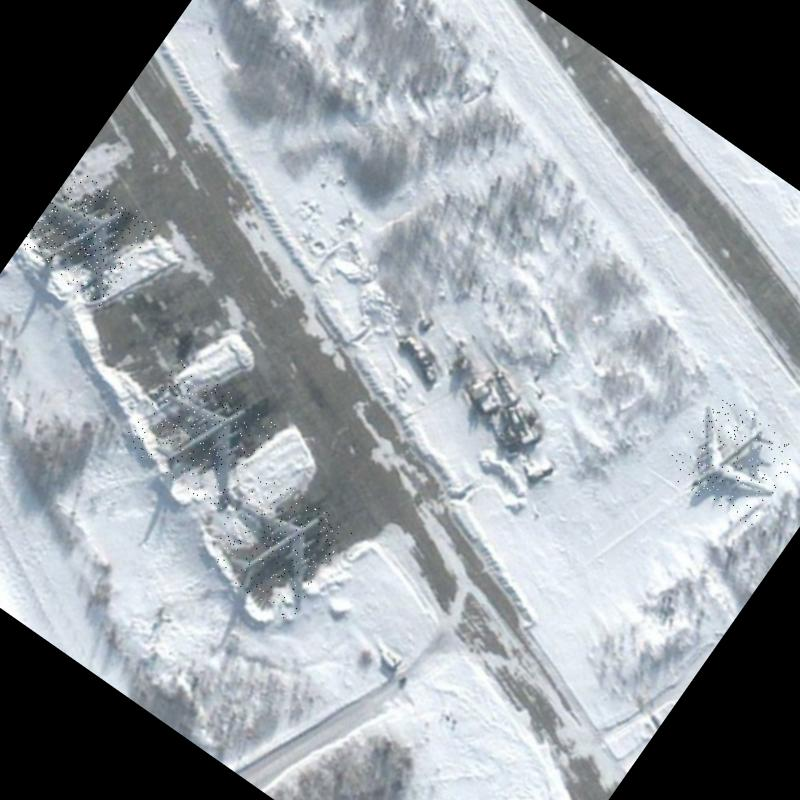A17: (120, 359, 278, 512), (198, 468, 353, 622), (17, 167, 158, 308), (661, 389, 800, 532)
